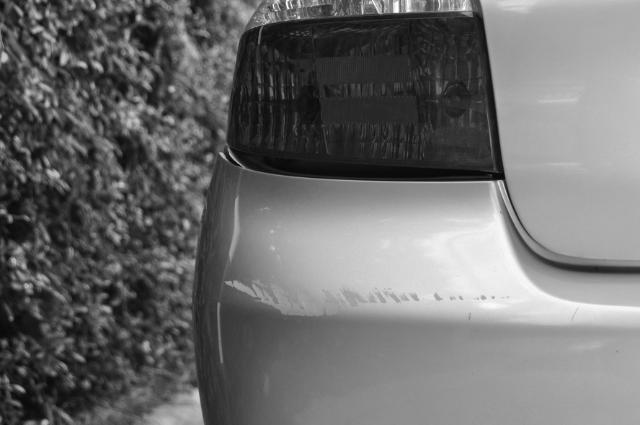Bumper: (212, 234, 563, 369)
